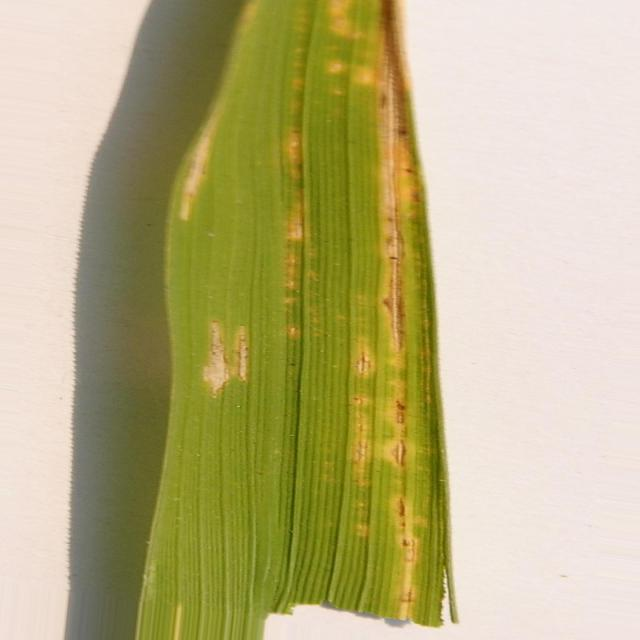Bacterial_Leaf_Blight: (376, 1, 421, 369), (351, 339, 377, 533), (179, 104, 219, 221), (385, 495, 419, 618), (202, 321, 249, 395), (282, 248, 303, 344), (204, 321, 230, 395), (285, 199, 312, 241), (284, 130, 306, 175), (393, 442, 410, 467), (394, 398, 408, 428), (396, 502, 407, 520)
